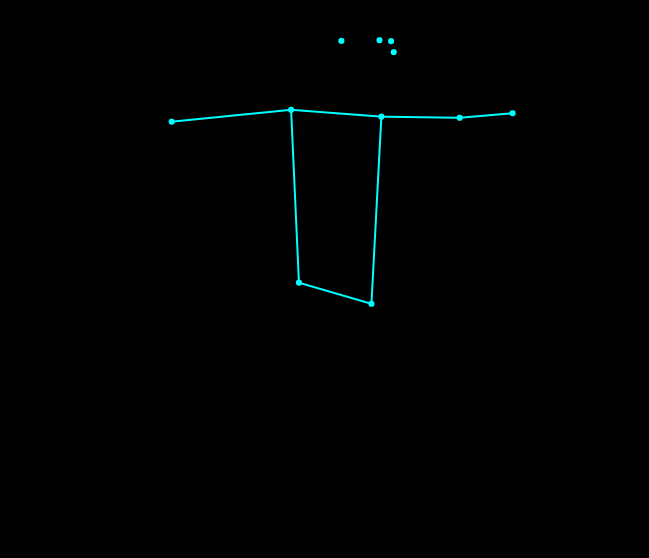warrior_2: (160, 27, 520, 317)
